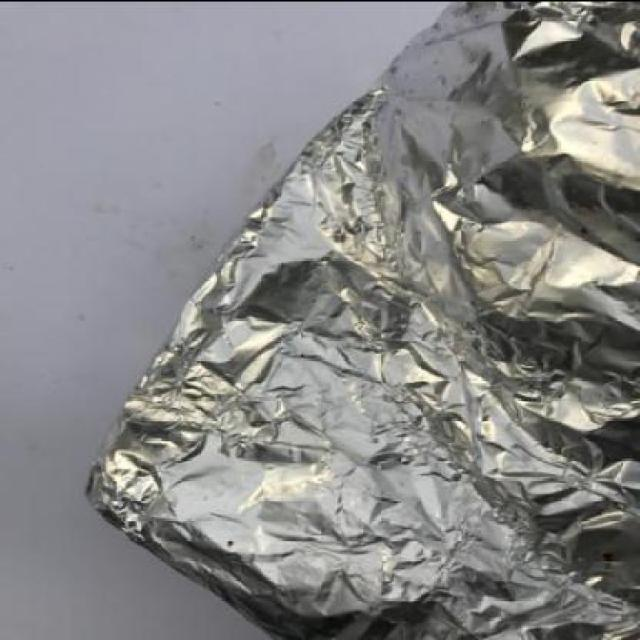METAL: (83, 1, 639, 638)
